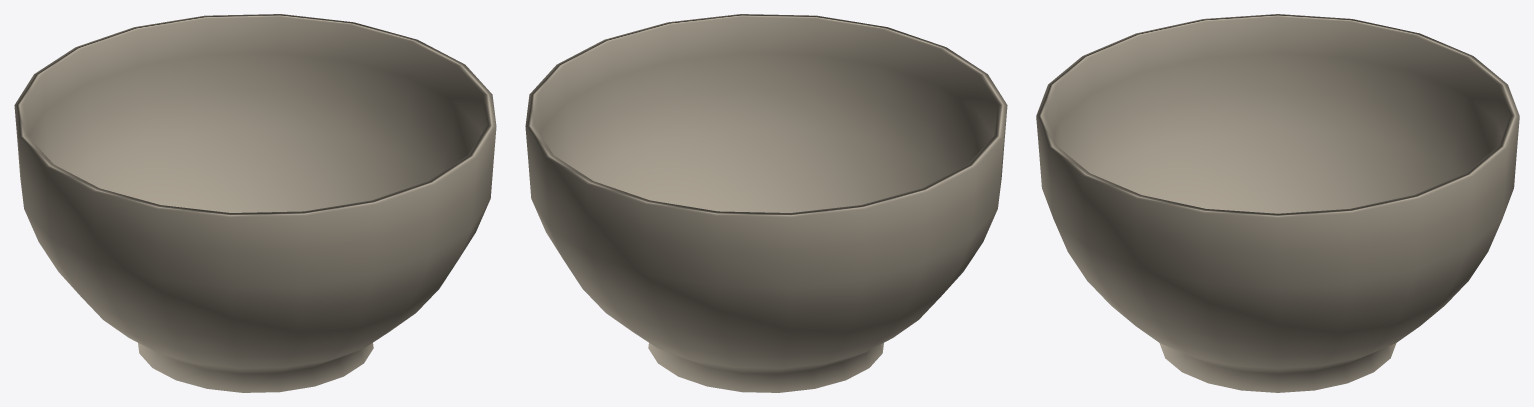
File: smallbole.fbx
3 views of the same model, side by side, from view 1: azimuth 30°, elevation 25°; view 2: azimuth 150°, elevation 25°; view 3: azimuth 270°, elevation 25° (orthographic).
Visible parts, largest first — view 1: pSphere5; view 2: pSphere5; view 3: pSphere5.
Boxes of the visible parts, bbox=[...] form: pSphere5: bbox=[14, 14, 496, 392]; pSphere5: bbox=[525, 14, 1007, 392]; pSphere5: bbox=[1036, 14, 1519, 392].
Size of the model in its own units: 1.34 by 0.6928 by 1.34.
